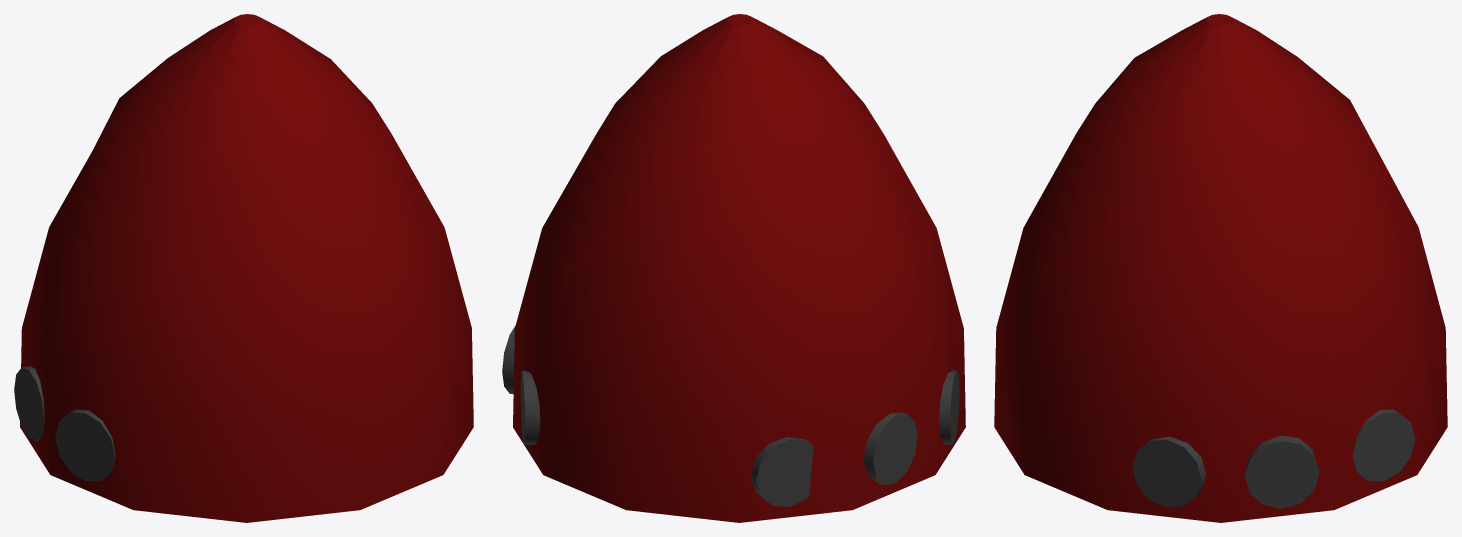
File: tete_fusé.FBX
3 views of the same model, side by side, from view 1: azimuth 30°, elevation 25°; view 2: azimuth 150°, elevation 25°; view 3: azimuth 270°, elevation 25° (orthographic).
Parts seen in each view (by area): view 1: Cylinder010, Cylinder014, Cylinder015; view 2: Cylinder010, Cylinder016, Cylinder015, Cylinder014, Cylinder013, Cylinder012; view 3: Cylinder010, Cylinder012, Cylinder011, Cylinder013.
Boxes of the visible parts, x1,y1,x2,y2 form: Cylinder010: (20, 14, 473, 522); Cylinder014: (55, 409, 115, 481); Cylinder015: (14, 366, 44, 440); Cylinder010: (513, 14, 965, 522); Cylinder016: (750, 437, 813, 506); Cylinder015: (863, 412, 917, 484); Cylinder014: (938, 370, 959, 444); Cylinder013: (520, 370, 540, 445); Cylinder012: (502, 325, 515, 394); Cylinder010: (994, 14, 1447, 522); Cylinder012: (1244, 435, 1319, 508); Cylinder011: (1132, 436, 1205, 507); Cylinder013: (1352, 409, 1415, 481).
Size of the model in its own units: 60.88 by 58.81 by 59.28.
